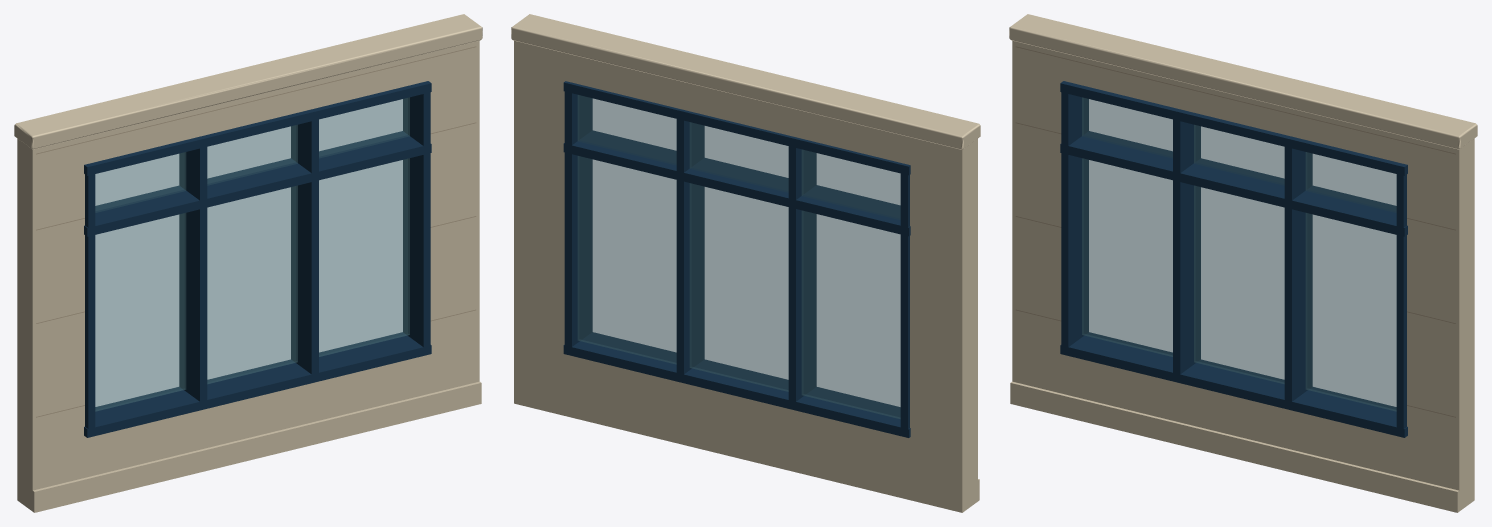
Rendered from wall-window.fbx.
3 renders of one model, left to right at view 1: azimuth 30°, elevation 25°; view 2: azimuth 150°, elevation 25°; view 3: azimuth 330°, elevation 25°, orthographic.
Parts seen in each view (by area): view 1: wall-window; view 2: wall-window; view 3: wall-window.
Boxes of the visible parts, x1=… form: wall-window: x1=14, y1=14, x2=482, y2=512; wall-window: x1=511, y1=14, x2=980, y2=512; wall-window: x1=1009, y1=14, x2=1477, y2=512.
Bounding box in the file's own units: 404 × 322 × 32.
